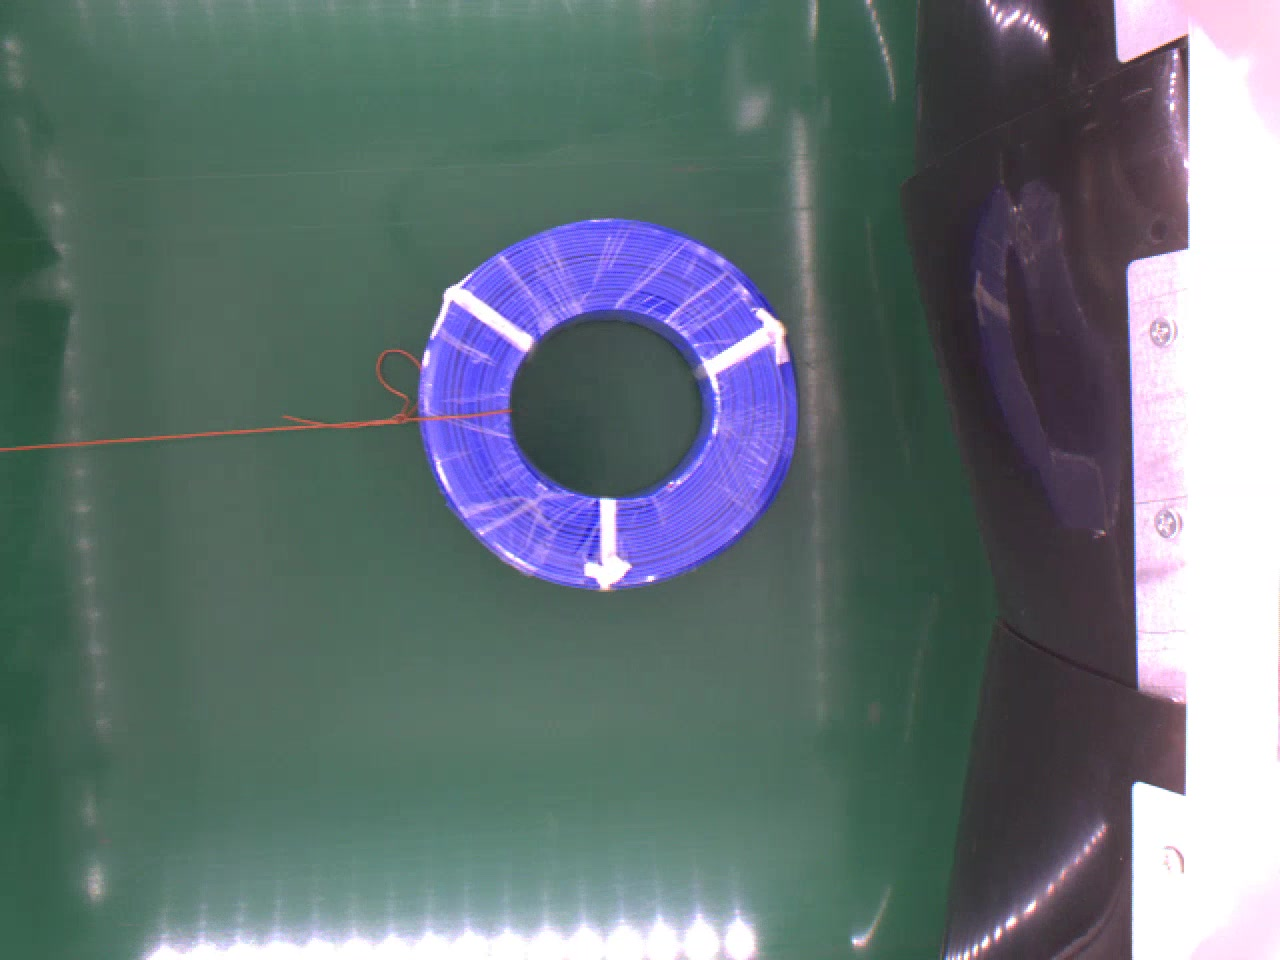blue: (419, 217, 800, 586)
